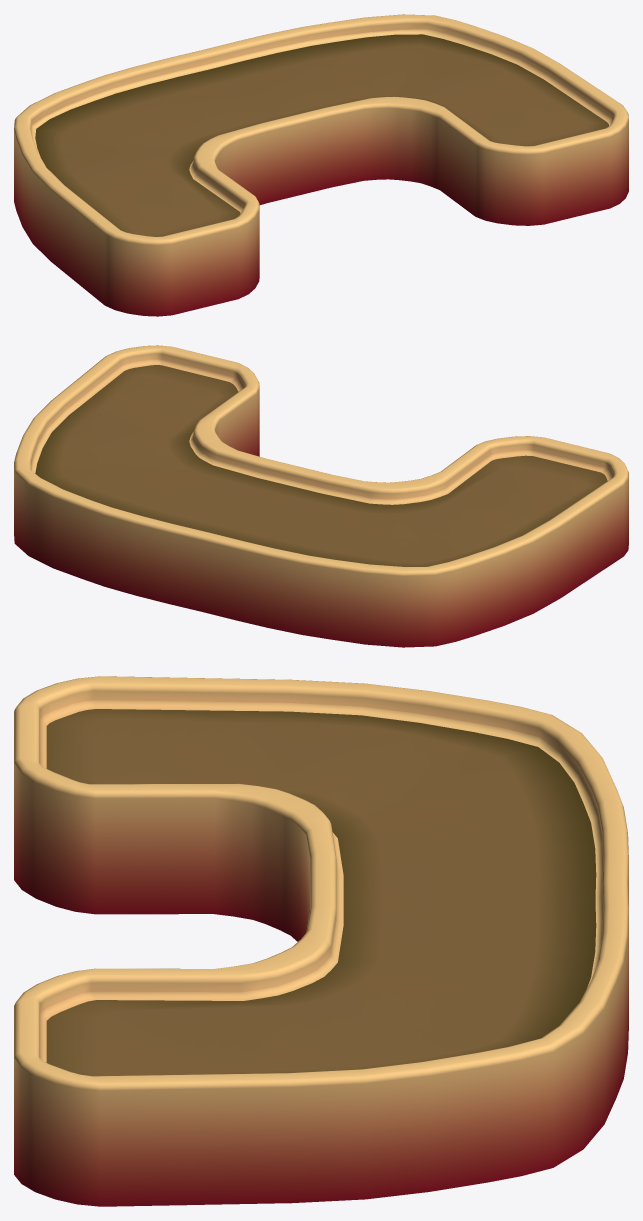
The model's file is Garden_bed.fbx.
The picture shows the model from 3 angles, top to bottom: view 1: azimuth 30°, elevation 25°; view 2: azimuth 150°, elevation 25°; view 3: azimuth 270°, elevation 25°; orthographic projection. The views are drawn at different scales.
Parts seen in each view (by area): view 1: Garden_Bed; view 2: Garden_Bed; view 3: Garden_Bed.
Boxes of the visible parts, <box> form: Garden_Bed: <box>14,14,628,316</box>; Garden_Bed: <box>14,345,628,647</box>; Garden_Bed: <box>14,676,628,1206</box>.
Size of the model in its own units: 704 by 97.16 by 445.
